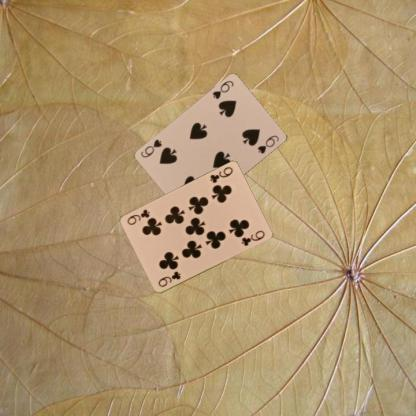6s: (210, 78, 234, 101)
9c: (207, 164, 234, 184), (155, 269, 182, 288)
